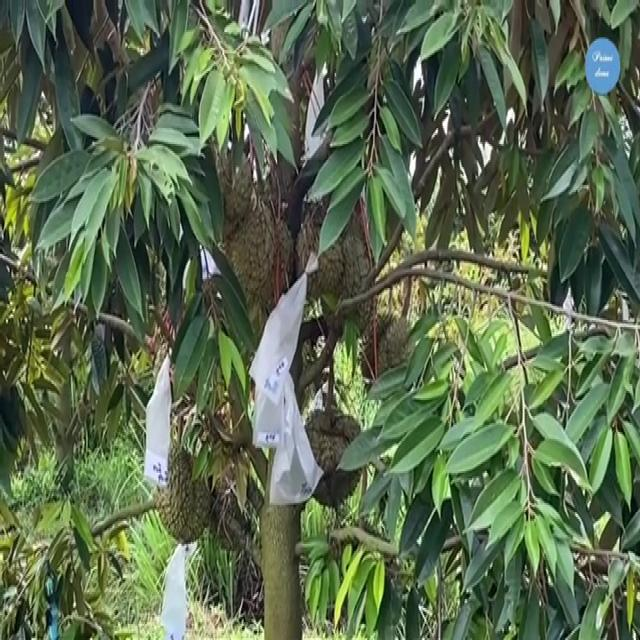durian: (314, 216, 378, 345), (356, 301, 426, 416), (299, 403, 369, 516), (151, 441, 220, 550), (216, 186, 280, 302), (192, 147, 256, 254), (293, 194, 348, 298)
